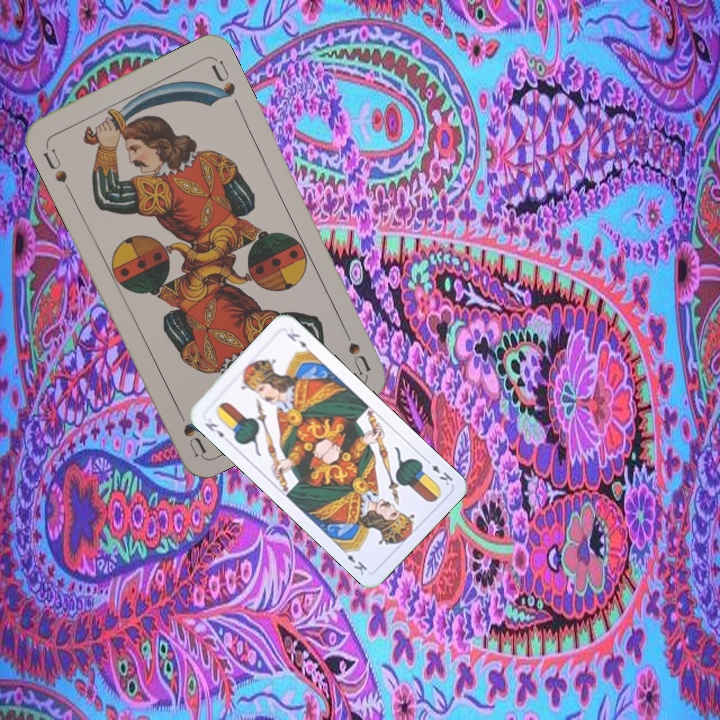EK: (421, 454, 455, 488), (201, 418, 227, 441)
SU: (336, 318, 373, 376), (39, 139, 74, 195)
